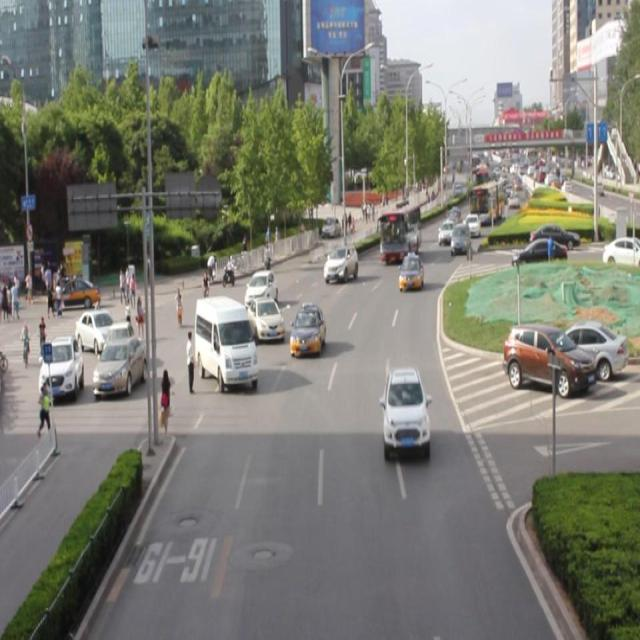car: (381, 368, 429, 455), (290, 304, 323, 354), (248, 297, 284, 341), (244, 270, 278, 311), (323, 245, 358, 281), (398, 253, 422, 291)
truck: (196, 299, 257, 385)
van: (379, 203, 419, 258)
